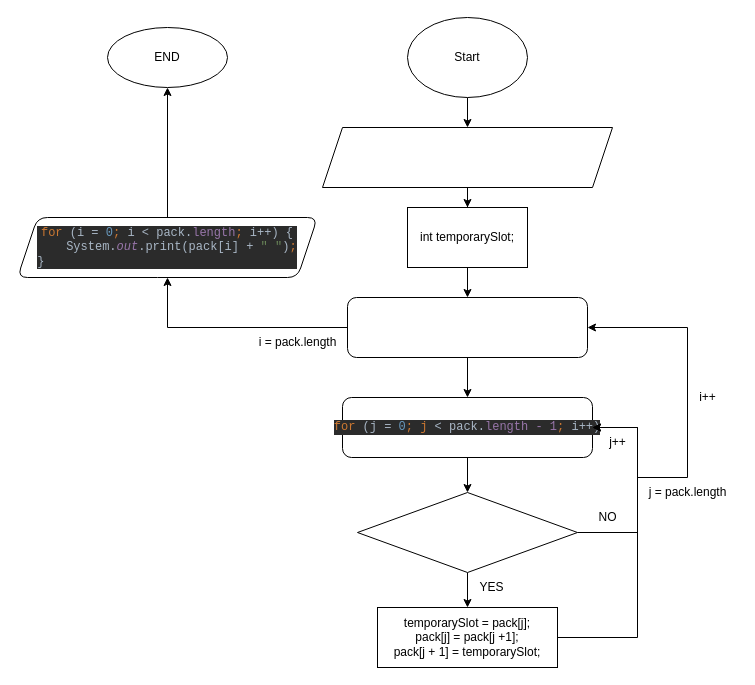
The diagram is 755 pixels wide and 685 high, and some of its shapes have lost their labels. Each missing label, with the centre of its shape:
"for (i = 0 ; i < pack. length ; i++)" goes at [467,327].
"if (pack[j] > pack[j + 1])" goes at [467,532].
"int [] pack = arrayFromSomewhere () ;" goes at [467,157].
